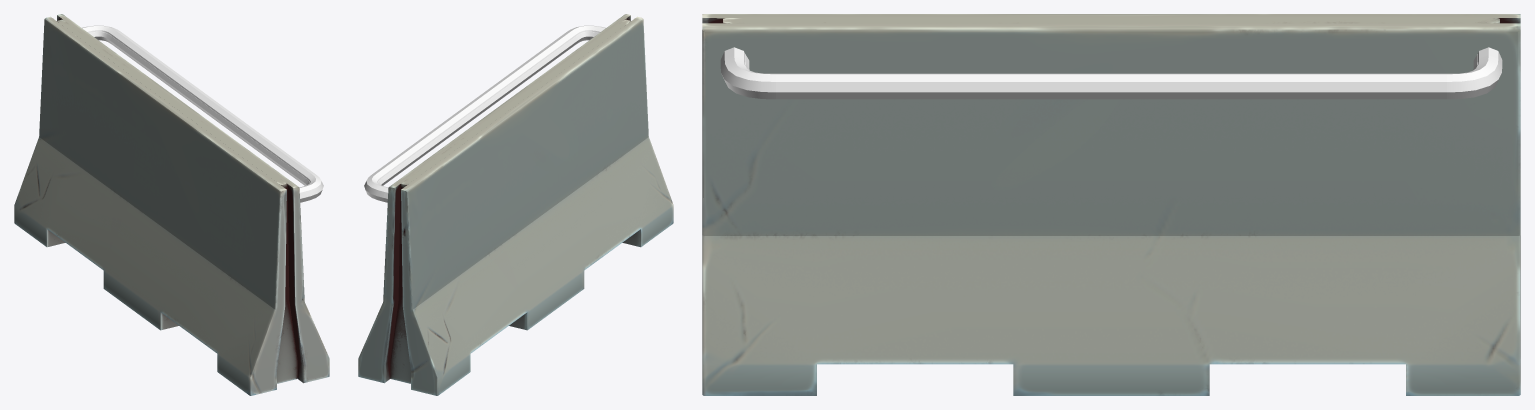
File: concreteBarrier_final.fbx
The picture shows the model from 3 angles, left to right: view 1: azimuth 30°, elevation 25°; view 2: azimuth 150°, elevation 25°; view 3: azimuth 270°, elevation 25°; orthographic projection. The views are drawn at different scales.
Visible parts, largest first — view 1: barrier_low, ConcreteBarrier_0007:Plastic_Bar_Casing, ConcreteBarrier_0007:Light_Mesh_2; view 2: barrier_low, ConcreteBarrier_0007:Plastic_Bar_Casing, ConcreteBarrier_0007:Light_Mesh_2; view 3: barrier_low, ConcreteBarrier_0007:Plastic_Bar_Casing.
Part boxes in pixels (x1,y1,x2,y2): barrier_low: (14,14,329,395); ConcreteBarrier_0007:Plastic_Bar_Casing: (82,25,323,202); ConcreteBarrier_0007:Light_Mesh_2: (89,31,309,185); barrier_low: (358,14,673,395); ConcreteBarrier_0007:Plastic_Bar_Casing: (364,25,605,202); ConcreteBarrier_0007:Light_Mesh_2: (378,31,598,185); barrier_low: (702,14,1520,395); ConcreteBarrier_0007:Plastic_Bar_Casing: (720,47,1502,99).
Size of the model in its own units: 38.13 by 81.02 by 176.
